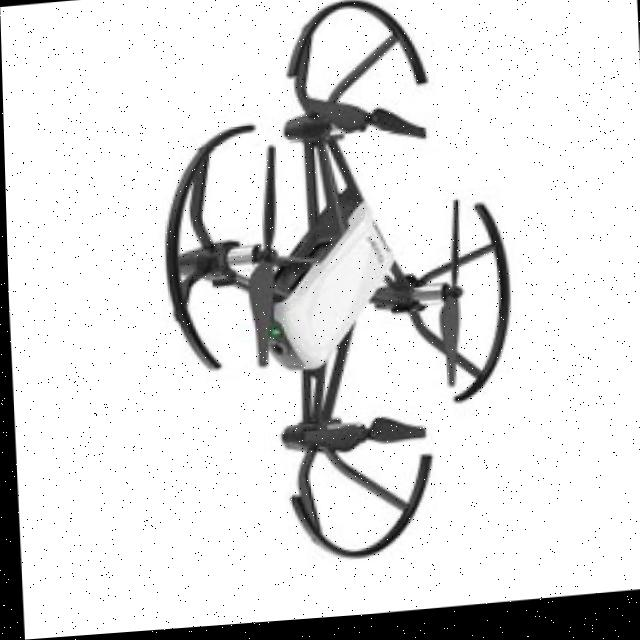drones: (129, 0, 539, 589)
